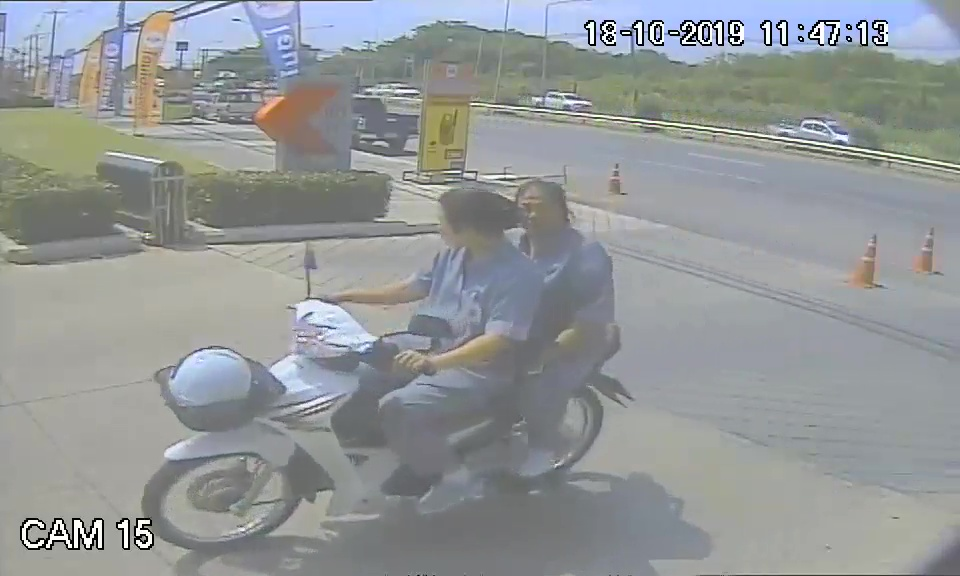motorcycle: (138, 302, 636, 552)
